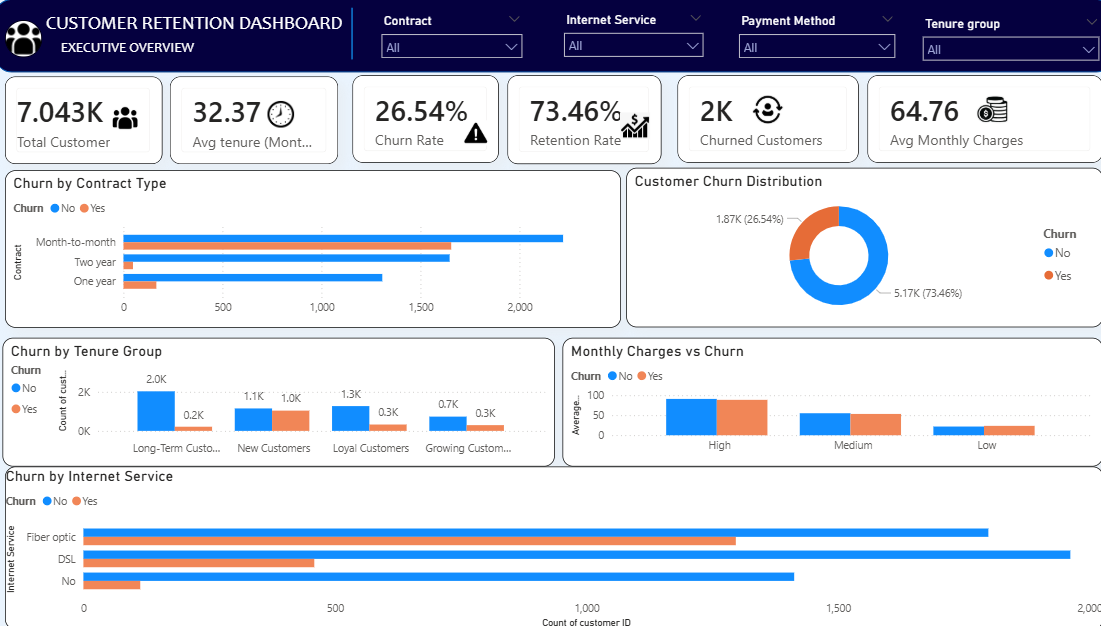

The dashboard page shown, as its layout file describes it:
{"tool":"powerbi","page":{"name":"Page 1","canvas":[1280,720],"ordinal":0},"visuals":[{"type":"cardVisual","fields":{"Data":["CountNonNull(Raw Data.customer ID)"]},"box":[11,89.2,179.8,100.2],"z":0},{"type":"cardVisual","fields":{"Data":["Sum(Raw Data.Churn Flag )"]},"box":[779.4,87.8,207.2,100.2],"z":1000},{"type":"cardVisual","fields":{"Data":["Avg(Raw Data.Monthly Charges)"]},"box":[997.6,87.8,269,100.2],"z":2000},{"type":"cardVisual","fields":{"Data":["Avg(Raw Data.tenure)"]},"box":[200.3,89.2,192.1,100.2],"z":3000},{"type":"cardVisual","fields":{"Data":["Raw Data.Churn Rate"]},"box":[408.9,87.8,167.4,100.2],"z":4000},{"type":"cardVisual","fields":{"Data":["Raw Data.Retention Rate"]},"box":[585.9,86.4,175.6,101.5],"z":5000},{"type":"clusteredBarChart","title":"Churn by Contract Type","fields":{"Category":["Raw Data.Contract"],"Series":["Raw Data.Churn"],"Y":["CountNonNull(Raw Data.customer ID)"]},"box":[11,196.2,703.9,179.8],"z":6000},{"type":"clusteredColumnChart","title":"Churn by Tenure Group","fields":{"Category":["Raw Data.Tenure group "],"Series":["Raw Data.Churn"],"Y":["CountNonNull(Raw Data.customer ID)"]},"box":[8.2,387,631.2,146.8],"z":7000},{"type":"donutChart","title":"Customer Churn Distribution","fields":{"Category":["Raw Data.Churn"],"Y":["CountNonNull(Raw Data.customer ID)"]},"box":[721.8,193.5,544.8,182.5],"z":8000},{"type":"clusteredColumnChart","title":"Monthly Charges vs Churn","fields":{"Category":["Raw Data.Charge Category "],"Y":["Avg(Raw Data.Monthly Charges)"],"Series":["Raw Data.Churn"]},"box":[649.1,387,617.5,146.8],"z":9000},{"type":"clusteredBarChart","title":"Churn by Internet Service","fields":{"Category":["Raw Data.Internet Service"],"Y":["CountNonNull(Raw Data.customer ID)"],"Series":["Raw Data.Churn"]},"box":[11,533.8,1255.6,186.6],"z":10000},{"type":"shape","box":[0,0,1277.5,84],"z":11000},{"type":"textbox","box":[53.5,9.6,404.8,59],"z":12000},{"type":"textbox","box":[70,39.8,186.6,31.6],"z":13000},{"type":"shape","box":[378.7,9.6,59,59],"z":14000},{"type":"slicer","fields":{"Values":["Raw Data.Contract"]},"box":[430.9,11,181.1,57.6],"z":15000},{"type":"slicer","fields":{"Values":["Raw Data.Internet Service"]},"box":[639.5,9.6,179.8,57.6],"z":16000},{"type":"slicer","fields":{"Values":["Raw Data.Payment Method"]},"box":[839.8,11,199,57.6],"z":17000},{"type":"slicer","fields":{"Values":["Raw Data.Tenure group "]},"box":[1049.7,13.7,222.3,57.6],"z":18000},{"type":"image","box":[11,24.7,42.5,42.5],"z":19000},{"type":"image","box":[134.5,119.4,28.8,31.6],"z":20000},{"type":"image","box":[311.5,115.3,30.2,31.6],"z":21000},{"type":"image","box":[533.8,138.6,30.2,28.8],"z":22000},{"type":"image","box":[714.9,126.2,34.3,38.4],"z":23000},{"type":"image","box":[860.4,107,46.7,38.4],"z":24000},{"type":"image","box":[1118.4,105.7,42.5,41.2],"z":25000}]}

Visuals, with their boxes in screenshot pixels (x1, y1, x2, y2), scaled from the page's 1280x720 canvas onto the 1101x626 screenshot:
cardVisual - CountNonNull(Raw Data.customer ID): 9:78:164:165
cardVisual - Sum(Raw Data.Churn Flag ): 670:76:849:163
cardVisual - Avg(Raw Data.Monthly Charges): 858:76:1089:163
cardVisual - Avg(Raw Data.tenure): 172:78:338:165
cardVisual - Raw Data.Churn Rate: 352:76:496:163
cardVisual - Raw Data.Retention Rate: 504:75:655:163
"Churn by Contract Type" clusteredBarChart: 9:171:615:327
"Churn by Tenure Group" clusteredColumnChart: 7:336:550:464
"Customer Churn Distribution" donutChart: 621:168:1089:327
"Monthly Charges vs Churn" clusteredColumnChart: 558:336:1089:464
"Churn by Internet Service" clusteredBarChart: 9:464:1089:625
shape: 0:0:1099:73
textbox: 46:8:394:60
textbox: 60:35:221:62
shape: 326:8:376:60
slicer - Raw Data.Contract: 371:10:526:60
slicer - Raw Data.Internet Service: 550:8:705:58
slicer - Raw Data.Payment Method: 722:10:894:60
slicer - Raw Data.Tenure group : 903:12:1094:62
image: 9:21:46:58
image: 116:104:140:131
image: 268:100:294:128
image: 459:121:485:146
image: 615:110:644:143
image: 740:93:780:126
image: 962:92:999:128
